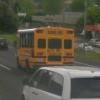Bus: (12, 20, 80, 70)
